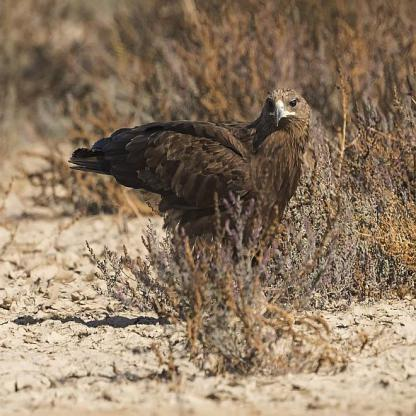Burung: (65, 89, 313, 339)
